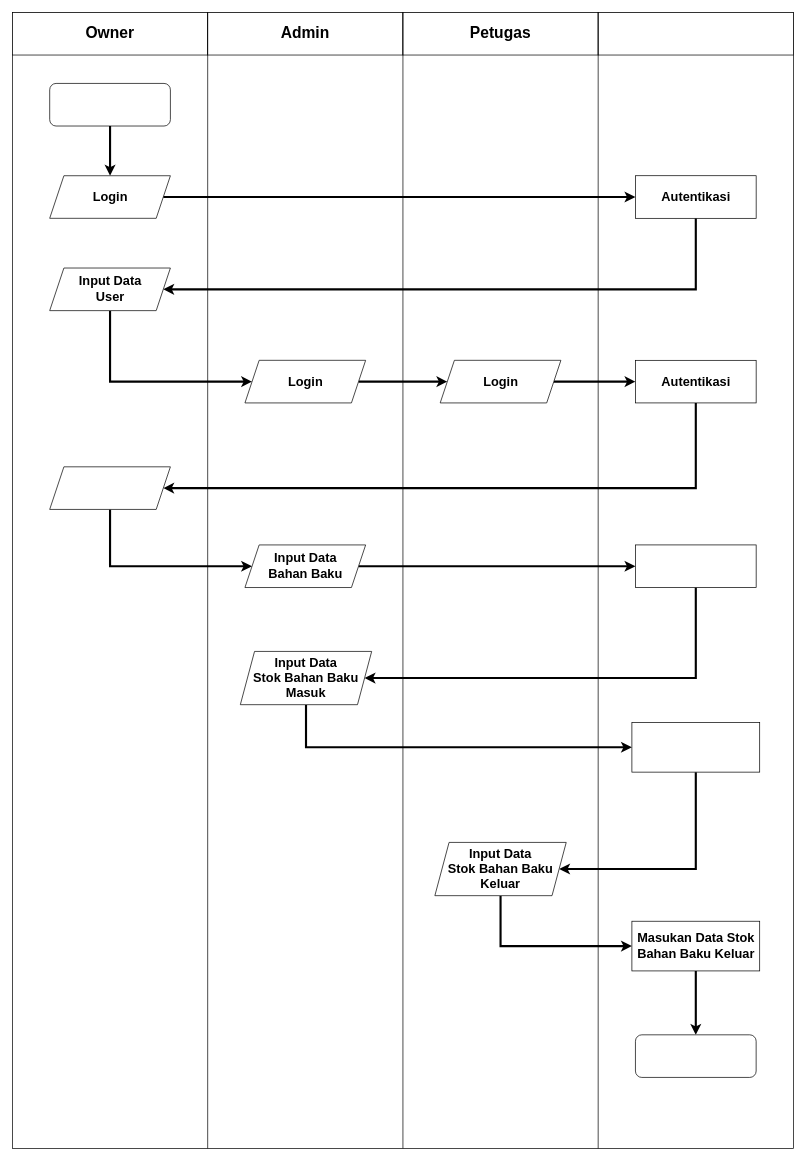
Image size: 806x1162. Some labels were removed from this diagram. The centre of each missing label's shape, as x and y in pixels:
Input Data Supplier: point (109, 487)
Masukan Data Bahan Baku: point (695, 566)
Masukan Data Stok Bahan Baku Masuk: point (695, 747)
Mulai: point (109, 104)
Selesai: point (695, 1055)
Sistem: point (695, 33)
